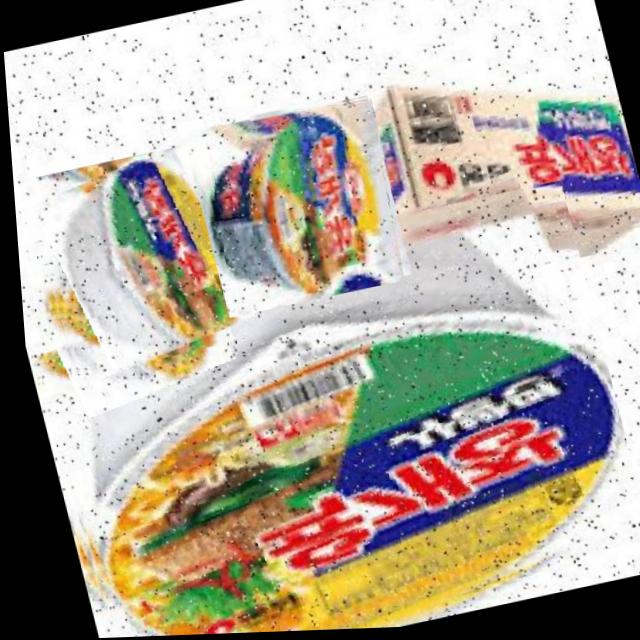Miscellaneous: (12, 182, 640, 640), (14, 144, 258, 382), (179, 94, 412, 320)
